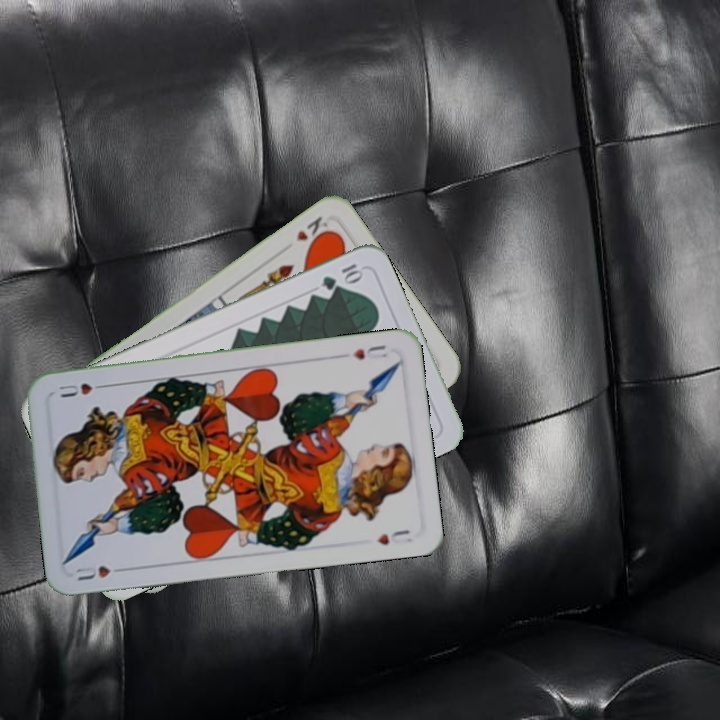G10: (317, 259, 366, 293)
HK: (291, 212, 336, 249)
HU: (71, 560, 129, 583), (348, 340, 390, 362)
